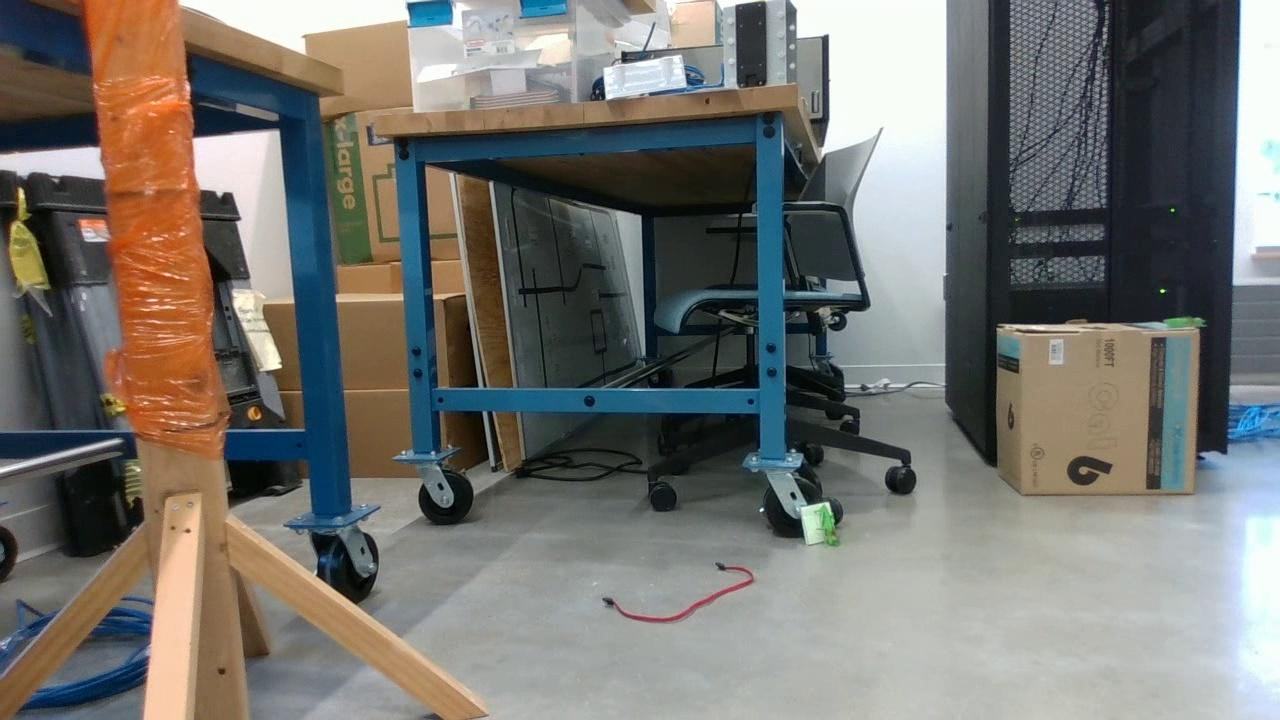grasshopper: (816, 504, 840, 547), (1161, 315, 1205, 329)
